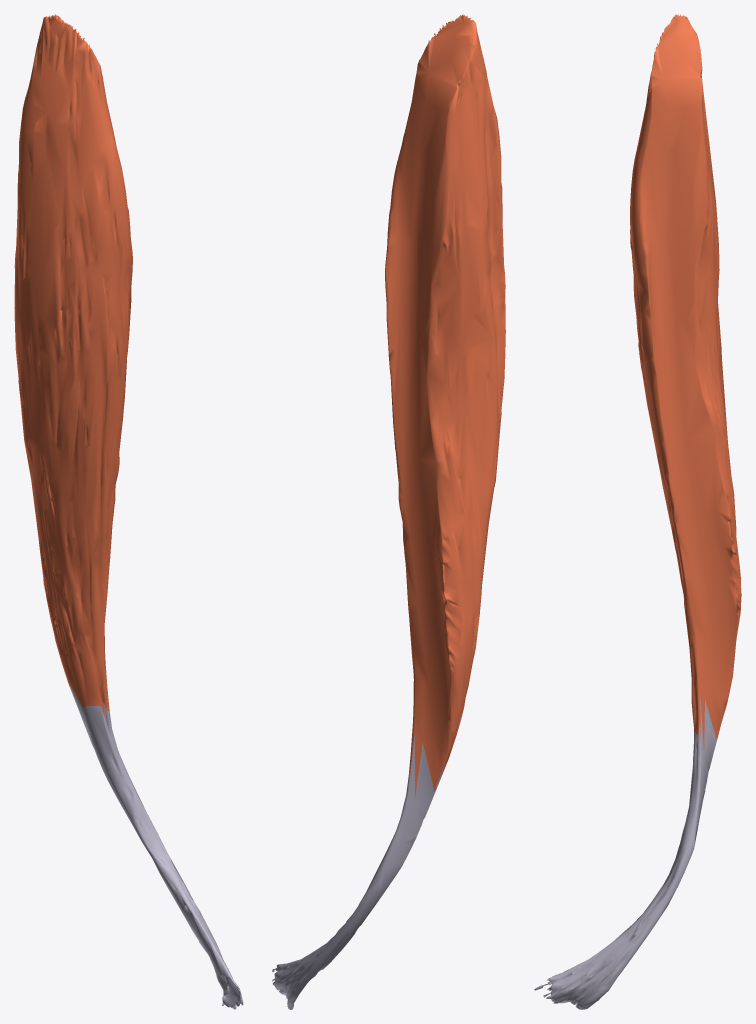
Rendered from Tibialis_anterior_muscle.r_Generated_Mesh_From_X3D.154.glb.
The picture shows the model from 3 angles, left to right: view 1: azimuth 30°, elevation 25°; view 2: azimuth 210°, elevation 25°; view 3: azimuth 270°, elevation 25°; orthographic projection. The views are drawn at different scales.
Parts seen in each view (by area): view 1: Tibialis_anterior_muscle.r_Generated_Mesh_From_X3D.154; view 2: Tibialis_anterior_muscle.r_Generated_Mesh_From_X3D.154; view 3: Tibialis_anterior_muscle.r_Generated_Mesh_From_X3D.154.
Boxes of the visible parts, x1=… form: Tibialis_anterior_muscle.r_Generated_Mesh_From_X3D.154: x1=14, y1=14, x2=243, y2=1009; Tibialis_anterior_muscle.r_Generated_Mesh_From_X3D.154: x1=272, y1=14, x2=505, y2=1009; Tibialis_anterior_muscle.r_Generated_Mesh_From_X3D.154: x1=534, y1=14, x2=741, y2=1009.
Size of the model in its own units: 0.0609 by 0.3688 by 0.0736.
